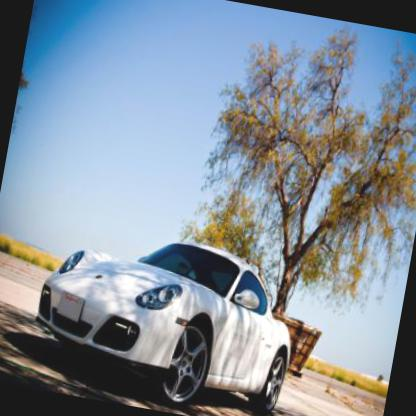car: (23, 211, 309, 415)
